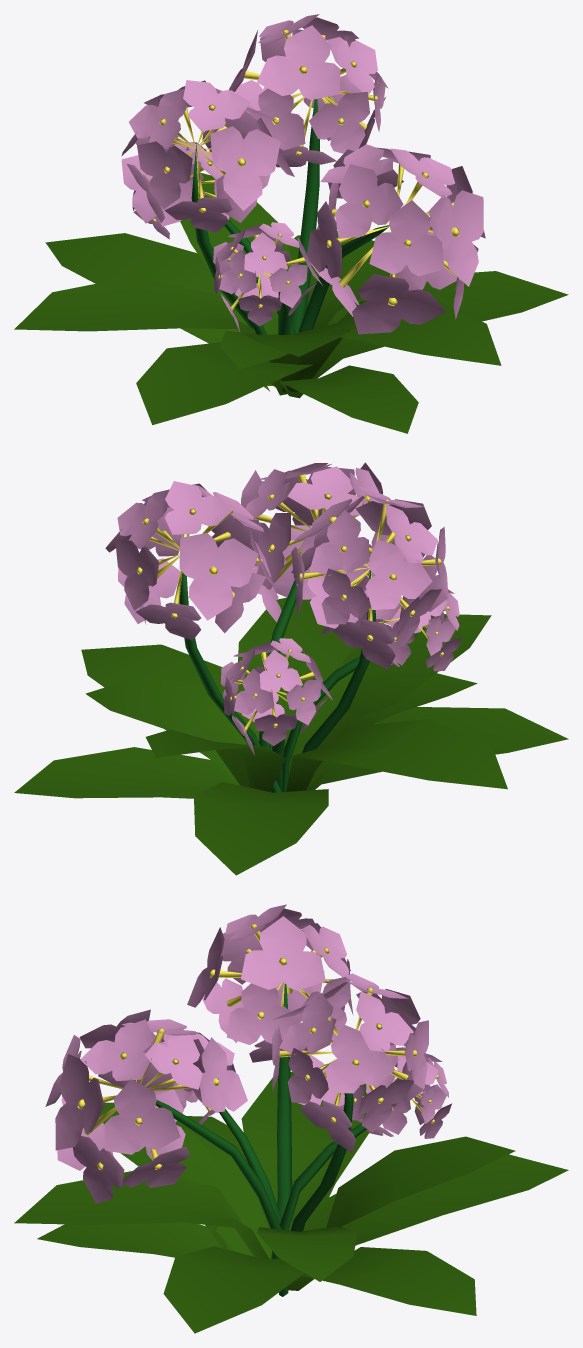
File: fleur 3.fbx
3 views of the same model, one above another, from view 1: azimuth 30°, elevation 25°; view 2: azimuth 150°, elevation 25°; view 3: azimuth 270°, elevation 25° (orthographic). The views are drawn at different scales.
Parts seen in each view (by area): view 1: Flower.005; view 2: Flower.005; view 3: Flower.005.
Part boxes in pixels (x1=…): Flower.005: x1=14, y1=14, x2=568, y2=433; Flower.005: x1=14, y1=462, x2=568, y2=875; Flower.005: x1=14, y1=904, x2=568, y2=1333.
Size of the model in its own units: 0.7835 by 0.5223 by 0.772.
